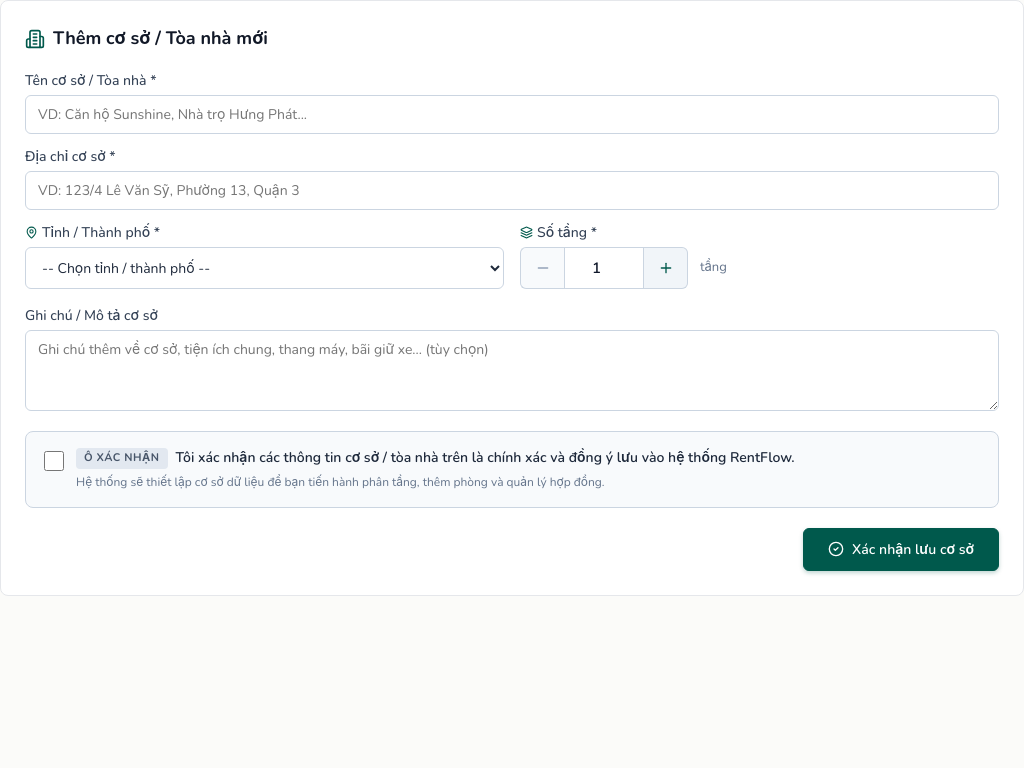
Test: PropertyForm Validation › increments and decrements total floors using stepper buttons
This screenshot has width=1024, height=768.
Expected: the number field labelled "Số tầng *" holds "1", [564, 247, 644, 289]
Click the button titled "Tăng 1 tầng". click: (666, 268)
box: [644, 247, 688, 289]
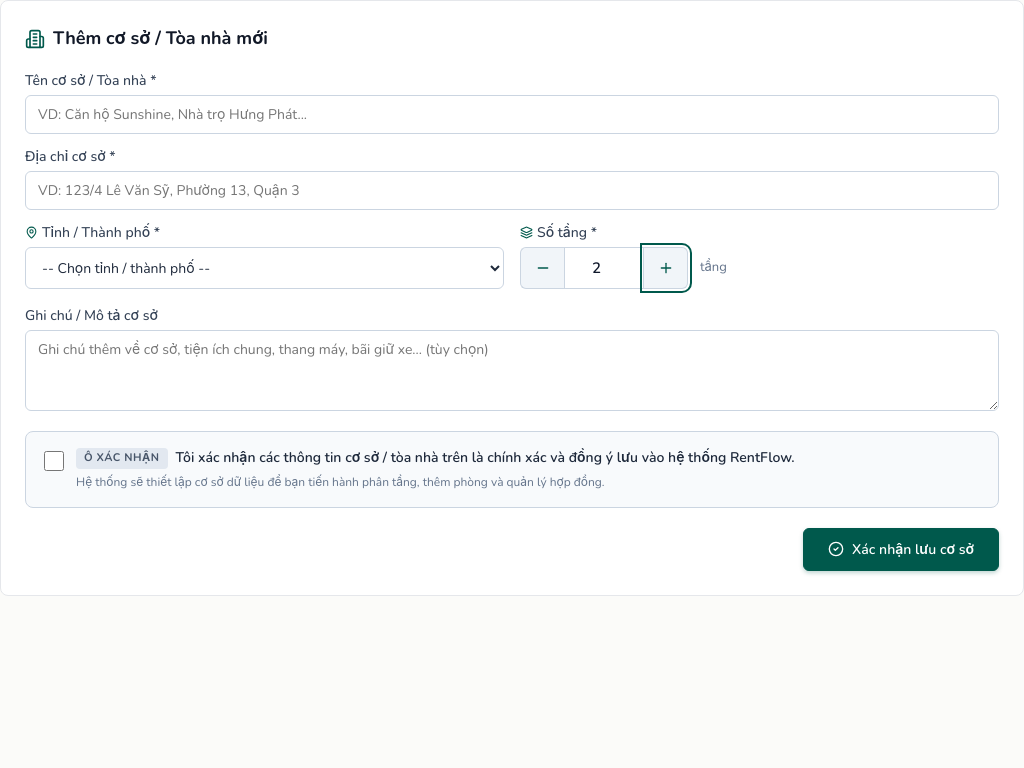
Now the number field labelled "Số tầng *" holds "2", box [564, 247, 644, 289]
Click the button titled "Tăng 1 tầng". click: (666, 268)
box: [644, 247, 688, 289]
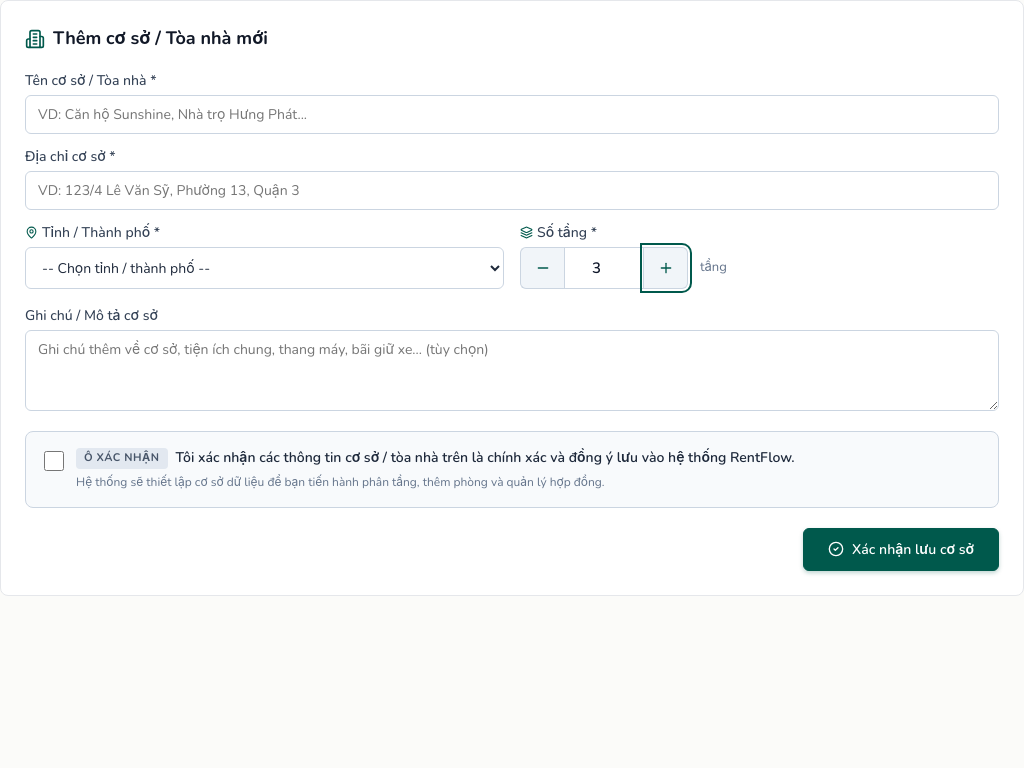
Now the number field labelled "Số tầng *" holds "3", box [564, 247, 644, 289]
Click the button titled "Giảm 1 tầng". click: (542, 268)
box: [520, 247, 564, 289]
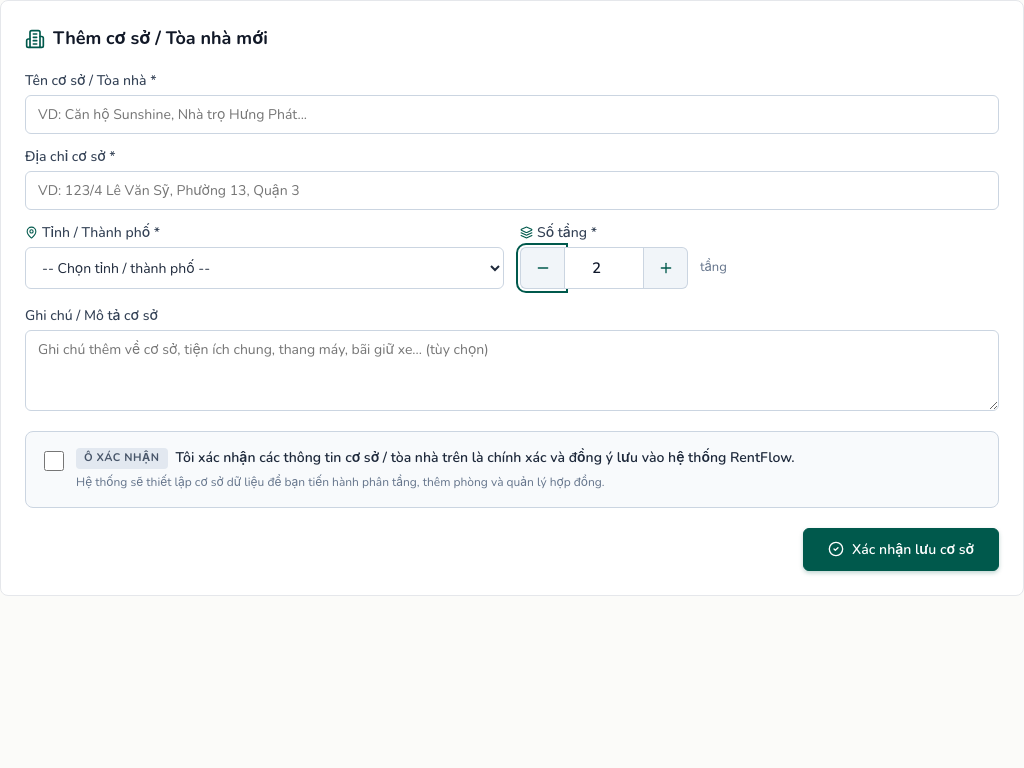
Now the number field labelled "Số tầng *" holds "2", box [564, 247, 644, 289]
